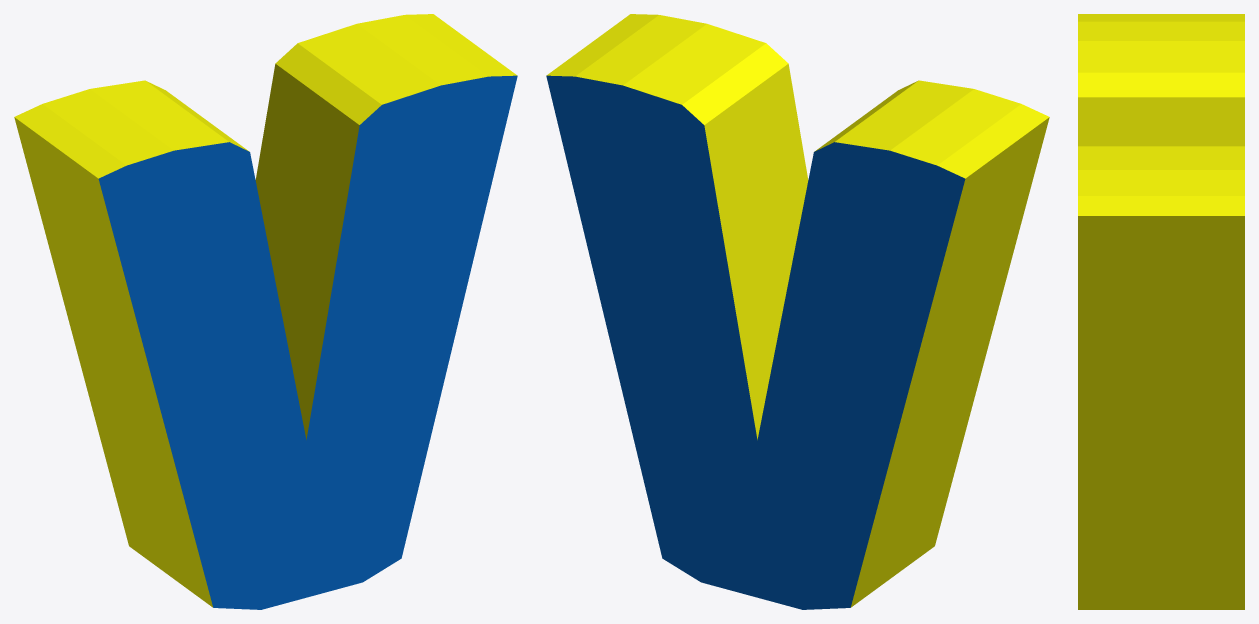
3 views of the same model, side by side, from view 1: azimuth 30°, elevation 25°; view 2: azimuth 150°, elevation 25°; view 3: azimuth 270°, elevation 25° (orthographic).
Parts seen in each view (by area): view 1: text: ABCDEFGHIJKLMNOPQRSTUVWXYZ01234567891_sep22_blue, text: ABCDEFGHIJKLMNOPQRSTUVWXYZ01234567891_sep22_yellow; view 2: text: ABCDEFGHIJKLMNOPQRSTUVWXYZ01234567891_sep22_blue, text: ABCDEFGHIJKLMNOPQRSTUVWXYZ01234567891_sep22_yellow; view 3: text: ABCDEFGHIJKLMNOPQRSTUVWXYZ01234567891_sep22_yellow.
Boxes of the visible parts, box(x1,y1,x2,y2) form: text: ABCDEFGHIJKLMNOPQRSTUVWXYZ01234567891_sep22_blue: box(98, 75, 517, 609); text: ABCDEFGHIJKLMNOPQRSTUVWXYZ01234567891_sep22_yellow: box(14, 14, 517, 607); text: ABCDEFGHIJKLMNOPQRSTUVWXYZ01234567891_sep22_blue: box(546, 75, 965, 609); text: ABCDEFGHIJKLMNOPQRSTUVWXYZ01234567891_sep22_yellow: box(546, 14, 1049, 607); text: ABCDEFGHIJKLMNOPQRSTUVWXYZ01234567891_sep22_yellow: box(1078, 14, 1244, 609).
Bounding box in the file's own units: 71.8 × 78.65 × 25.
